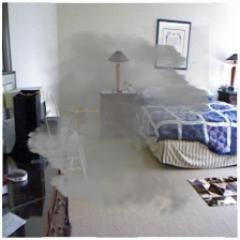smoke: (78, 34, 181, 163)
